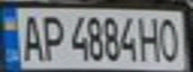4: (63, 11, 87, 62), (118, 12, 139, 62)
8: (84, 12, 106, 62), (103, 14, 121, 62)
A: (15, 11, 45, 62)
H: (136, 14, 163, 63)
O: (157, 14, 184, 63)
P: (36, 11, 66, 62)
